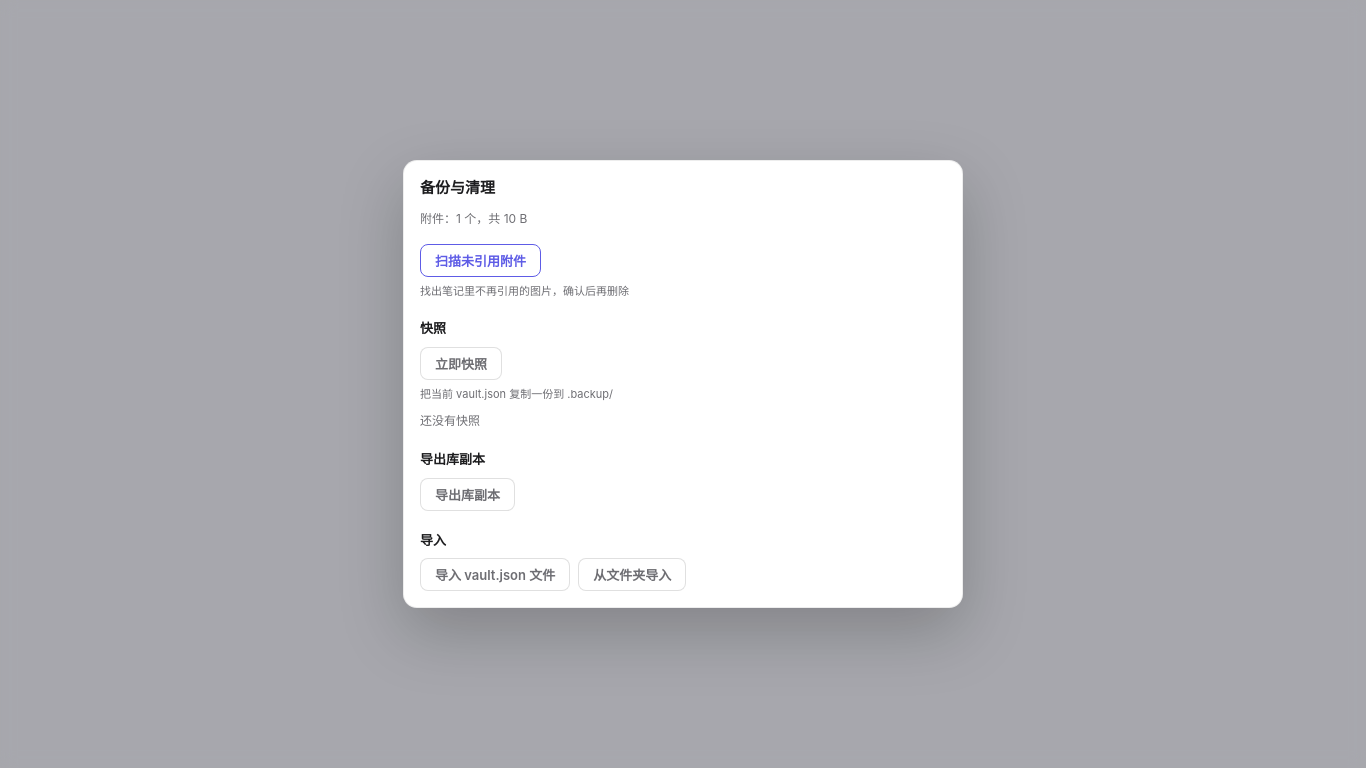
T26-2 · 扫描 → 展示预览（先看清再确认） › 没有未引用附件 → 提示空态，不给确认按钮
Click the button with test id "backup-gc-scan" at [480, 260], box [420,244,541,276]
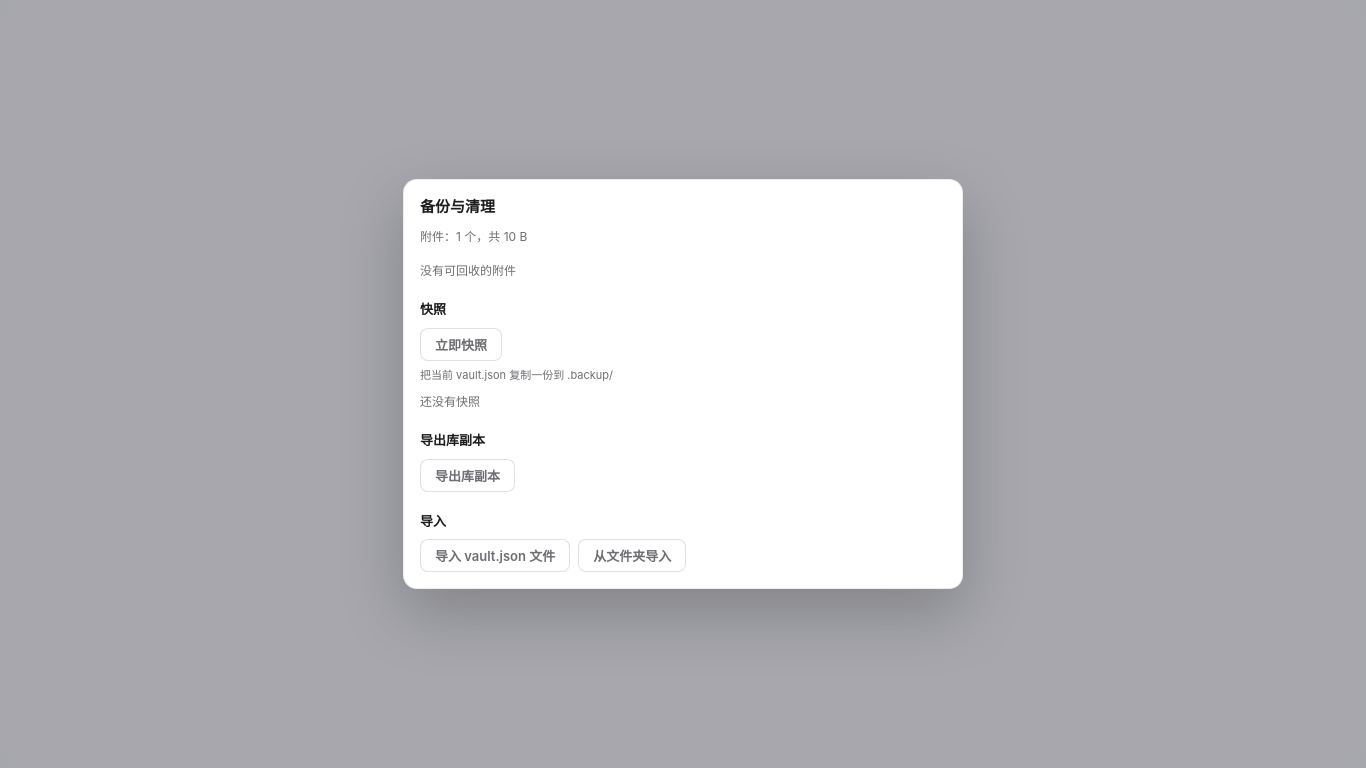
Check: the element with test id "backup-gc-preview" reads "没有可回收的附件", box [420,263,516,278]
